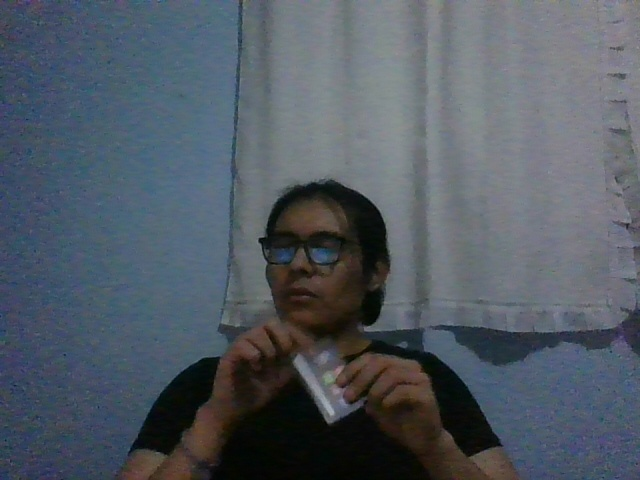tarjeta: (287, 336, 367, 426)
